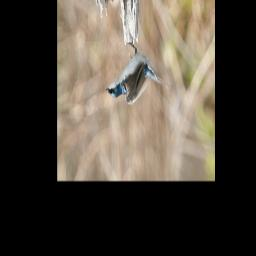Swallow: (105, 41, 170, 106)
